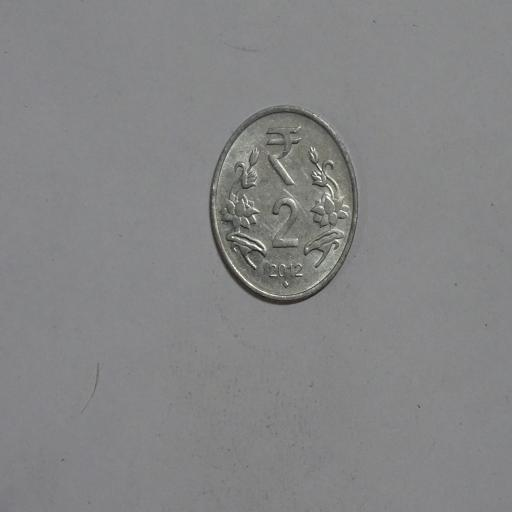rupee2: (205, 110, 359, 312)
